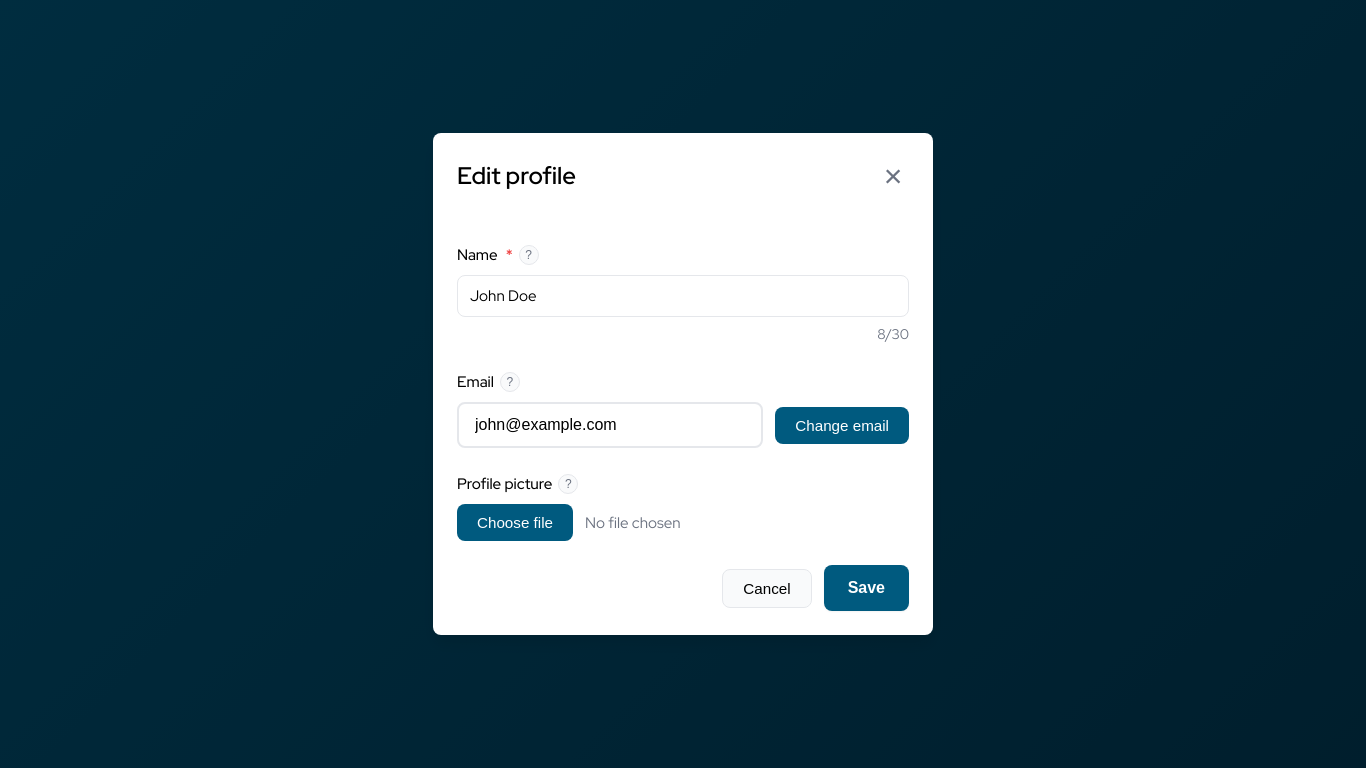
Scenario: EditProfileModal › should show loading state when submitting
Click the button "Save" at (866, 588), box [824,565,909,611]
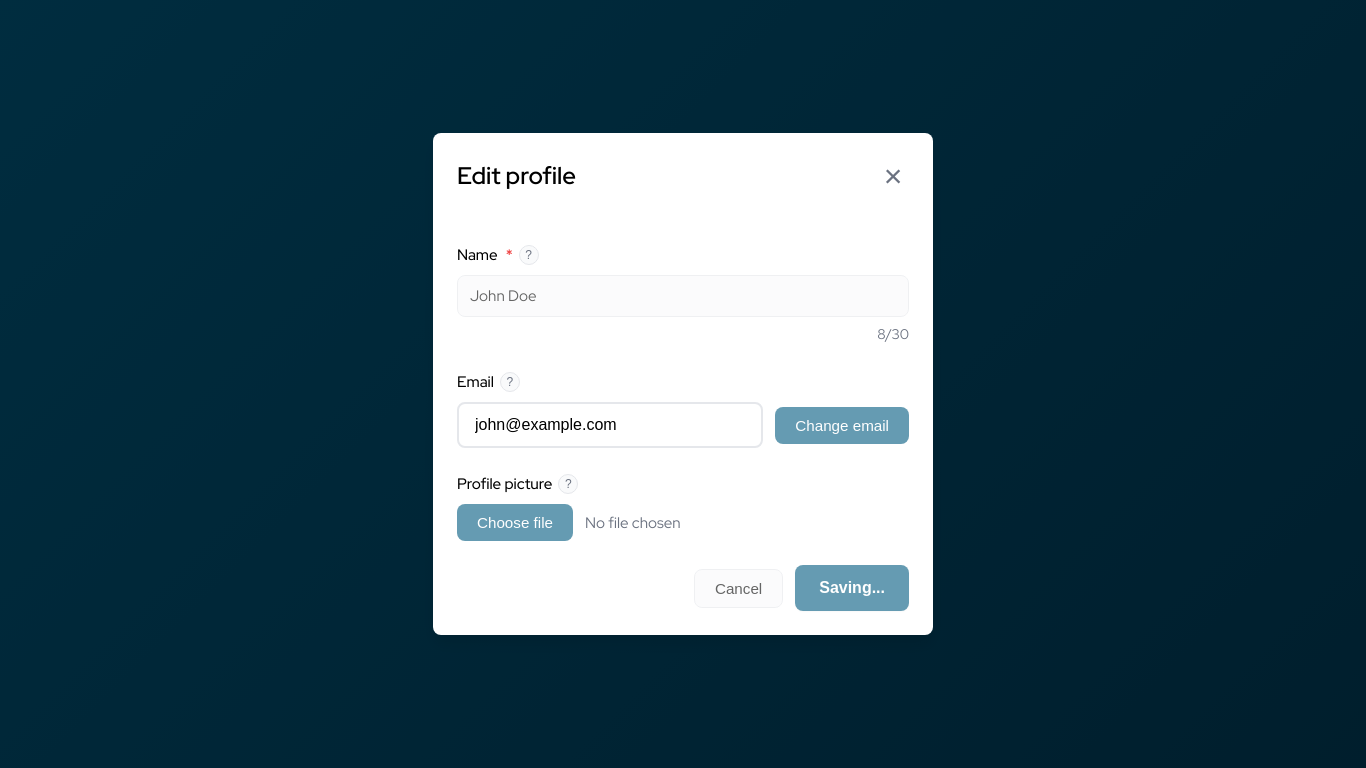
Now the button "Saving..." is disabled, box [795,565,909,611]
